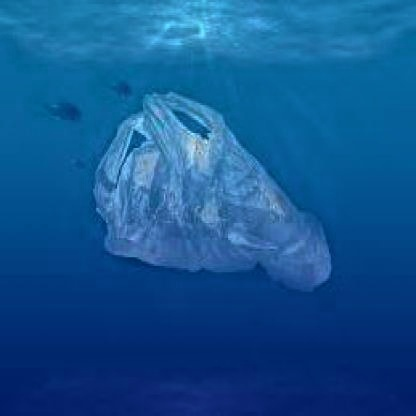pbag: (93, 90, 334, 296)
